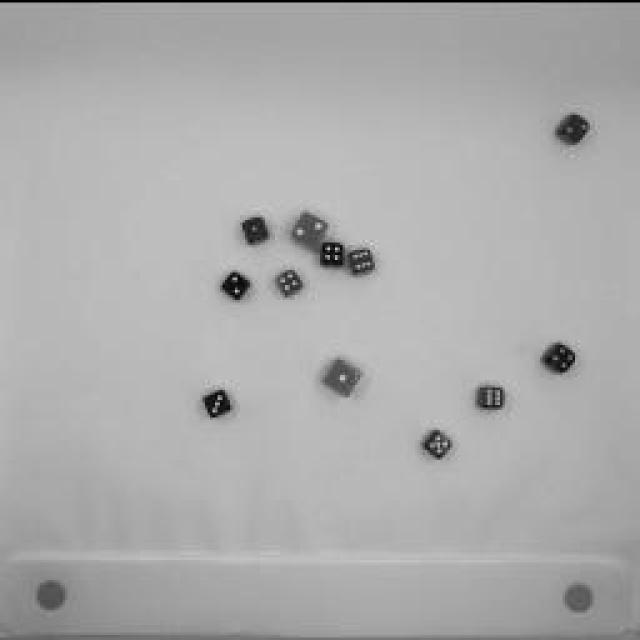dice_1: (319, 354, 366, 398), (240, 212, 275, 248)
dice_2: (288, 208, 332, 250), (555, 112, 593, 146), (220, 268, 255, 302)
dice_3: (198, 384, 238, 418)
dice_4: (540, 336, 580, 376), (272, 265, 306, 297)
dice_5: (421, 425, 459, 460), (318, 236, 348, 272)
dice_6: (346, 244, 379, 276), (475, 382, 507, 410)
